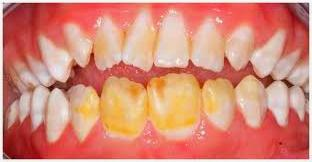Discoloration: (145, 73, 207, 139), (99, 75, 152, 148), (199, 74, 235, 129)
